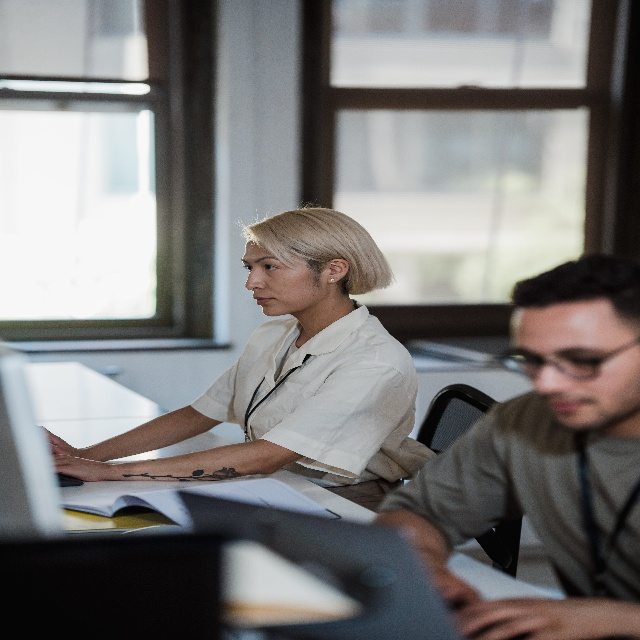Gafas: (496, 343, 640, 380)
Sin_guantes: (450, 580, 577, 640), (49, 450, 110, 483)
